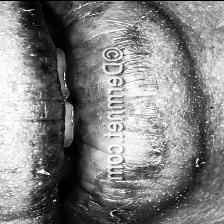Potentially Malignant Skin Tumors: (124, 0, 200, 224), (0, 20, 58, 224)
